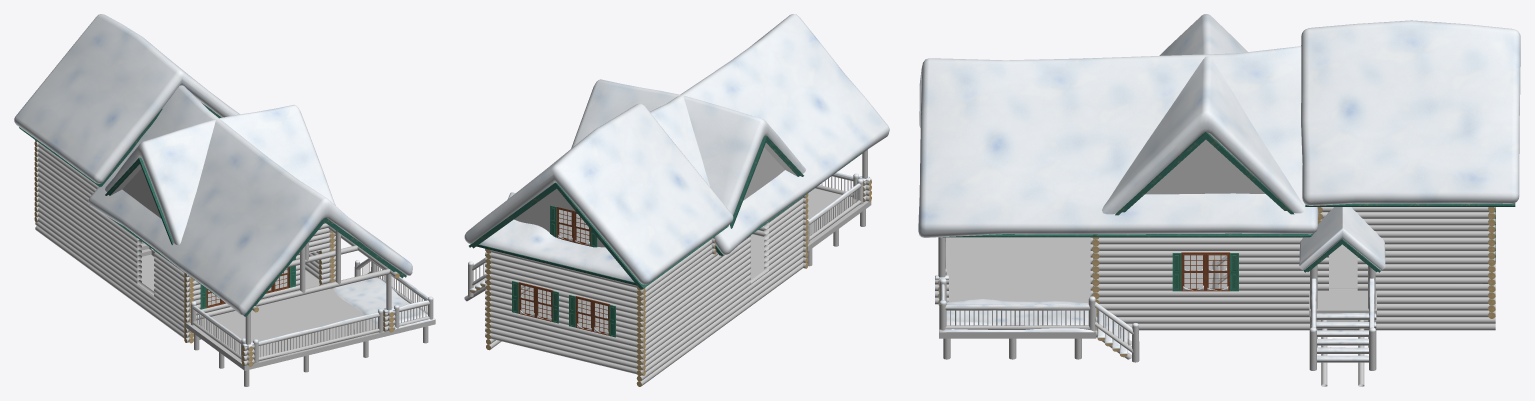
File: s2f_log_cabin_pre.fbx
The picture shows the model from 3 angles, left to right: view 1: azimuth 30°, elevation 25°; view 2: azimuth 150°, elevation 25°; view 3: azimuth 270°, elevation 25°; orthographic projection. The views are drawn at different scales.
Parts seen in each view (by area): view 1: roof, deck, cabin_walls, floor_interior, window_back_deck; view 2: roof, cabin_walls, deck, windows_front, floor_interior, Entrance_deck, upsairs_loft; view 3: roof, cabin_walls, deck, Entrance_deck, window_side, floor_interior.
Boxes of the visible parts, x1,y1,x2,y2 form: roof: (14, 14, 412, 316); deck: (185, 226, 435, 386); cabin_walls: (34, 140, 335, 343); floor_interior: (138, 254, 319, 305); window_back_deck: (200, 257, 295, 309); roof: (464, 14, 889, 289); cabin_walls: (485, 193, 808, 386); deck: (807, 149, 871, 266); windows_front: (512, 281, 615, 337); floor_interior: (521, 234, 768, 332); Entrance_deck: (464, 192, 515, 301); upsairs_loft: (559, 209, 589, 243); roof: (918, 14, 1520, 237); cabin_walls: (1090, 207, 1495, 330); deck: (935, 237, 1139, 362); Entrance_deck: (1299, 207, 1385, 386); window_side: (1172, 252, 1238, 291); floor_interior: (1184, 244, 1357, 289).
Size of what is drawn, in the model's own units: 1369 by 1184 by 2351.
